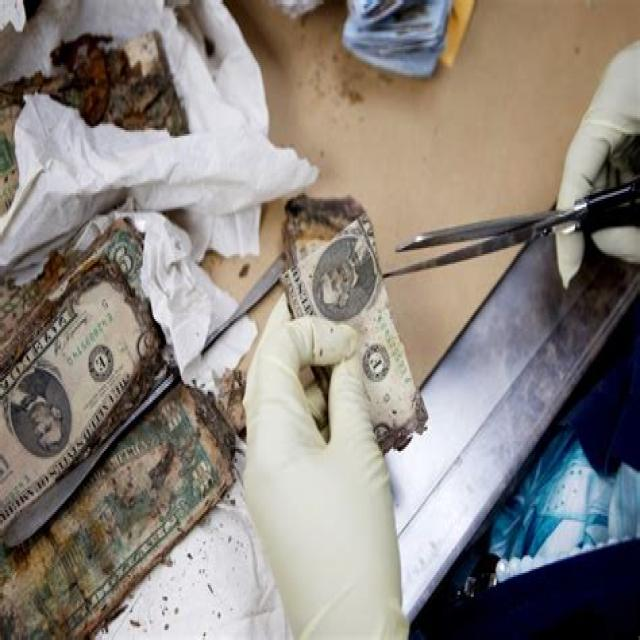banknote: (0, 375, 253, 640), (0, 218, 192, 529), (281, 220, 432, 453), (32, 309, 77, 353), (183, 458, 217, 500), (153, 396, 188, 436), (110, 244, 136, 281)
